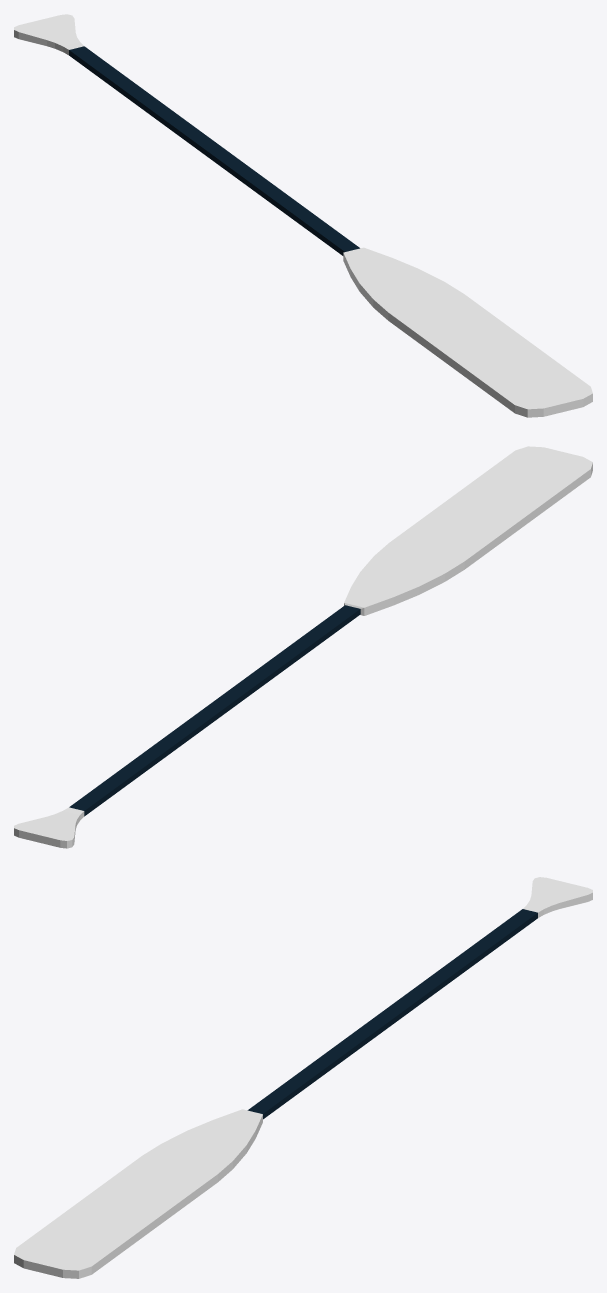
Rendered from Paddle_01.fbx.
The picture shows the model from 3 angles, top to bottom: view 1: azimuth 30°, elevation 25°; view 2: azimuth 150°, elevation 25°; view 3: azimuth 330°, elevation 25°; orthographic projection.
Visible parts, largest first — view 1: Paddle_01; view 2: Paddle_01; view 3: Paddle_01.
Part boxes in pixels (left/top/right/bottom): Paddle_01: left=14, top=14, right=592, bottom=417; Paddle_01: left=14, top=446, right=592, bottom=848; Paddle_01: left=14, top=877, right=592, bottom=1278.
Size of the model in its own units: 36.39 by 3.83 by 436.
